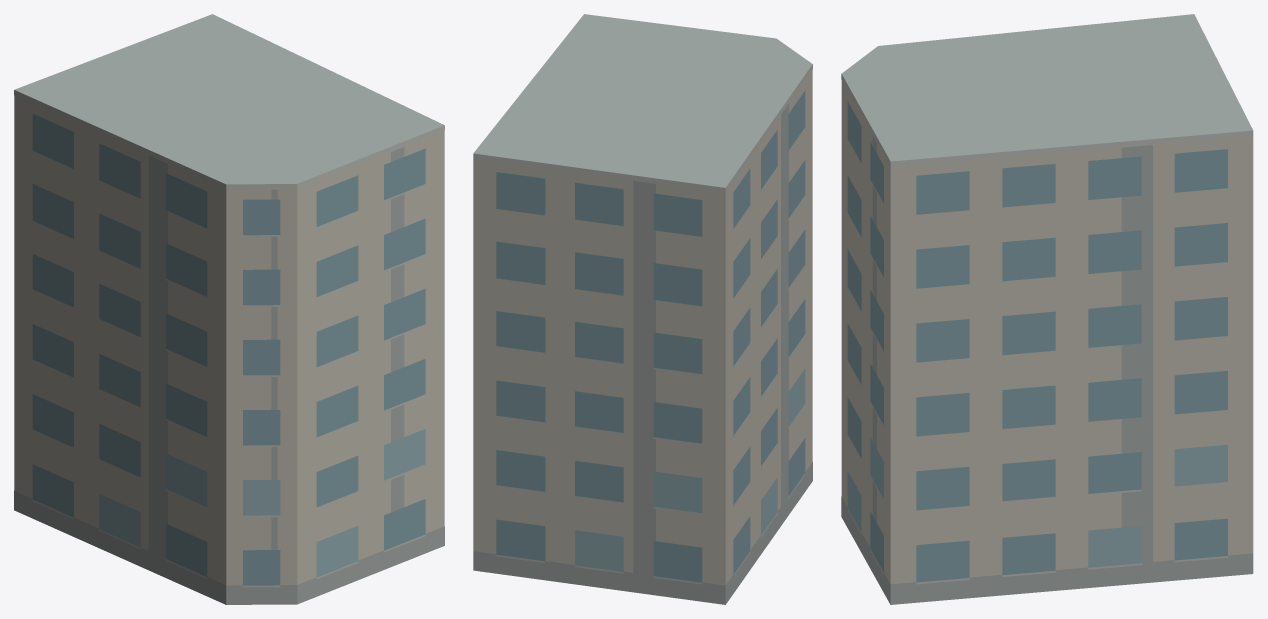
The model's file is survey-upis-32801148.glb.
The picture shows the model from 3 angles, left to right: view 1: azimuth 30°, elevation 25°; view 2: azimuth 150°, elevation 25°; view 3: azimuth 270°, elevation 25°; orthographic projection. The views are drawn at different scales.
Visible parts, largest first — view 1: survey-upis-32801148.tmp; view 2: survey-upis-32801148.tmp; view 3: survey-upis-32801148.tmp.
Boxes of the visible parts, x1,y1,x2,y2 form: survey-upis-32801148.tmp: (14,14,444,604); survey-upis-32801148.tmp: (473,14,812,604); survey-upis-32801148.tmp: (841,14,1253,604).
Size of the model in its own units: 13.1 by 18.35 by 15.46.
